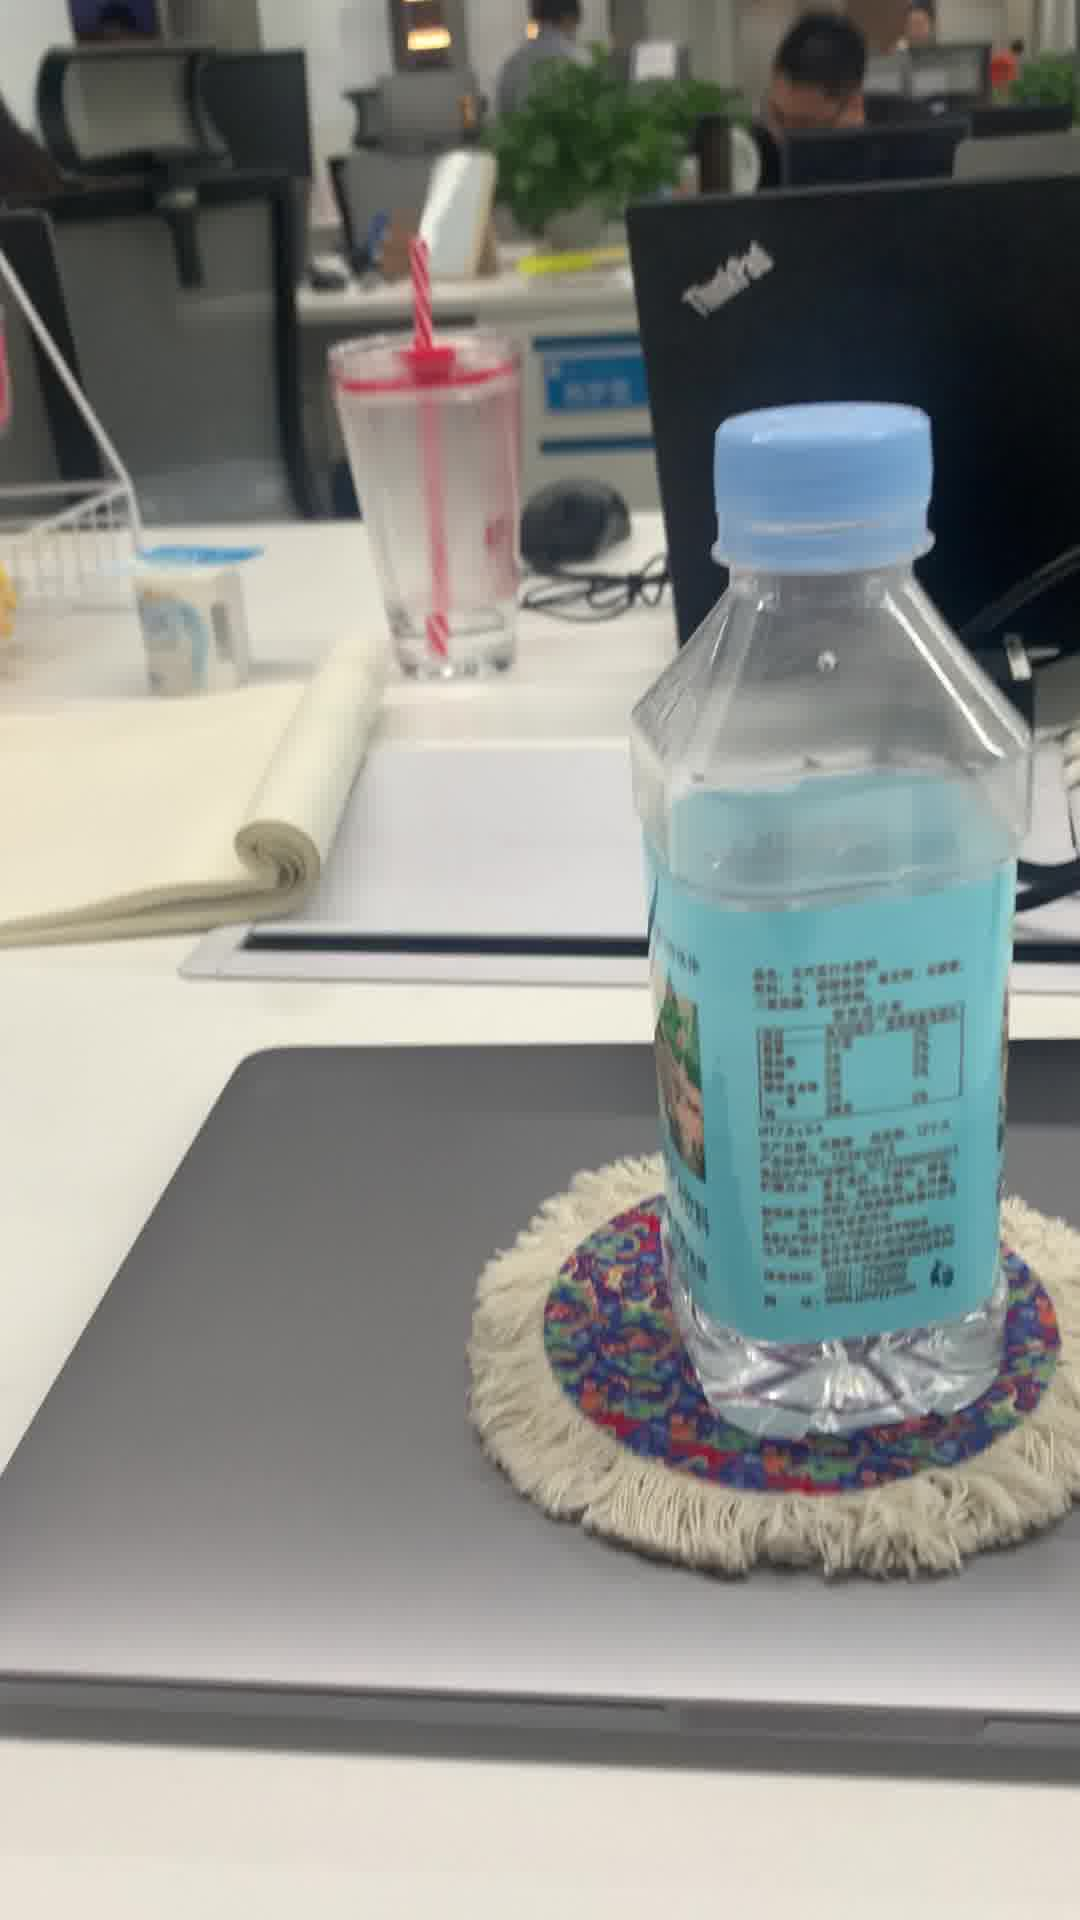水瓶: (615, 385, 1030, 1445)
